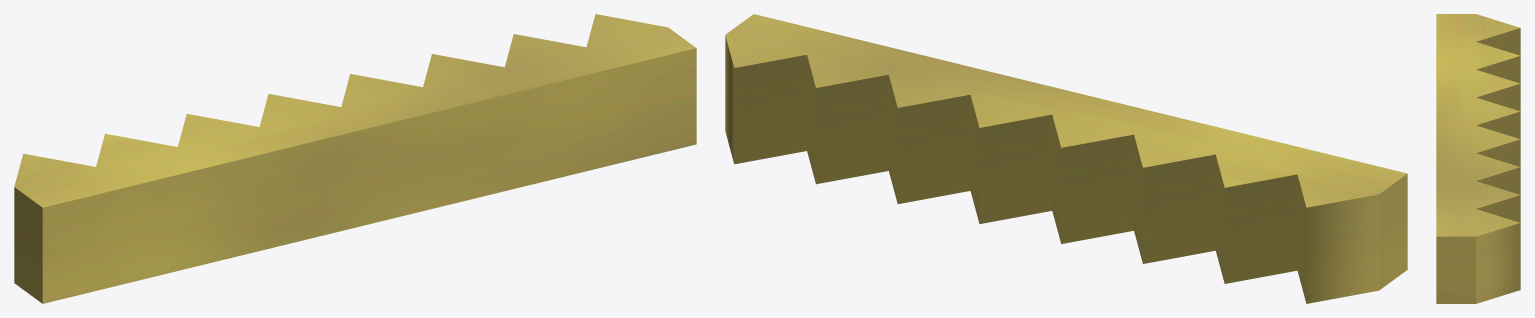
The model's file is StraightClock008.fbx.
3 renders of one model, left to right at view 1: azimuth 30°, elevation 25°; view 2: azimuth 150°, elevation 25°; view 3: azimuth 270°, elevation 25°, orthographic. The views are drawn at different scales.
Parts seen in each view (by area): view 1: StraightClock008; view 2: StraightClock008; view 3: StraightClock008.
Boxes of the visible parts, box(x1,y1,x2,y2) form: StraightClock008: box(14, 14, 696, 303); StraightClock008: box(725, 14, 1407, 303); StraightClock008: box(1436, 14, 1520, 303).
Size of the model in its own units: 154 by 21.72 by 24.7.
